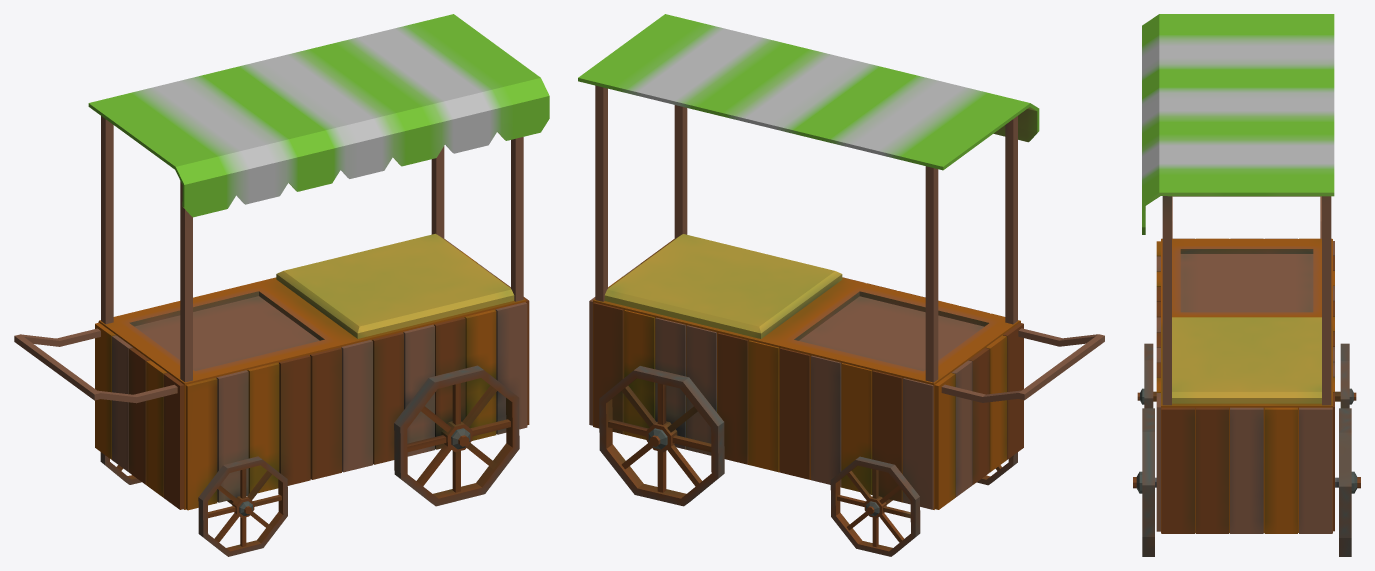
The model's file is marketplace.glb.
3 renders of one model, left to right at view 1: azimuth 30°, elevation 25°; view 2: azimuth 150°, elevation 25°; view 3: azimuth 270°, elevation 25°, orthographic.
Visible parts, largest first — view 1: Cube.035; view 2: Cube.035; view 3: Cube.035.
Boxes of the visible parts, x1=… form: Cube.035: x1=14, y1=14, x2=549, y2=556; Cube.035: x1=578, y1=14, x2=1104, y2=556; Cube.035: x1=1133, y1=14, x2=1360, y2=556.
Bounding box in the file's own units: 2.32 × 1.98 × 1.03.
1 material, 1 textured.
